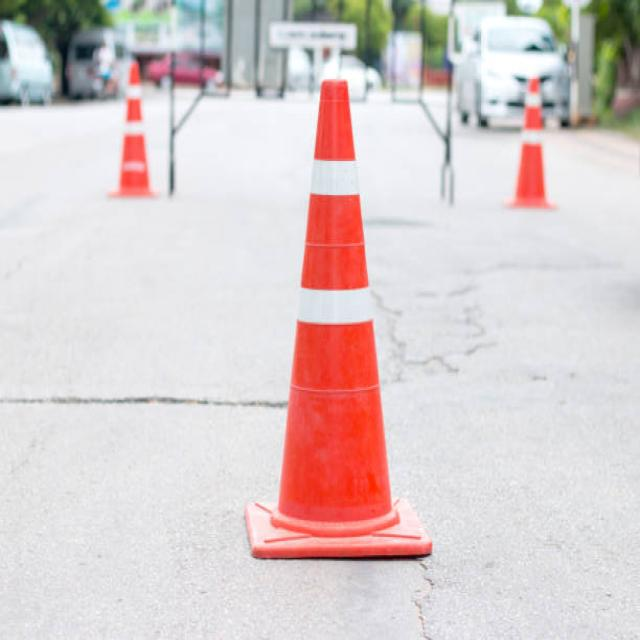Traffic Cone: (221, 51, 451, 602), (89, 48, 178, 219), (493, 56, 567, 232)
